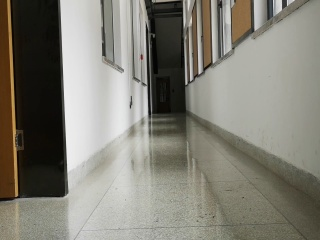room: (1, 2, 70, 210)
